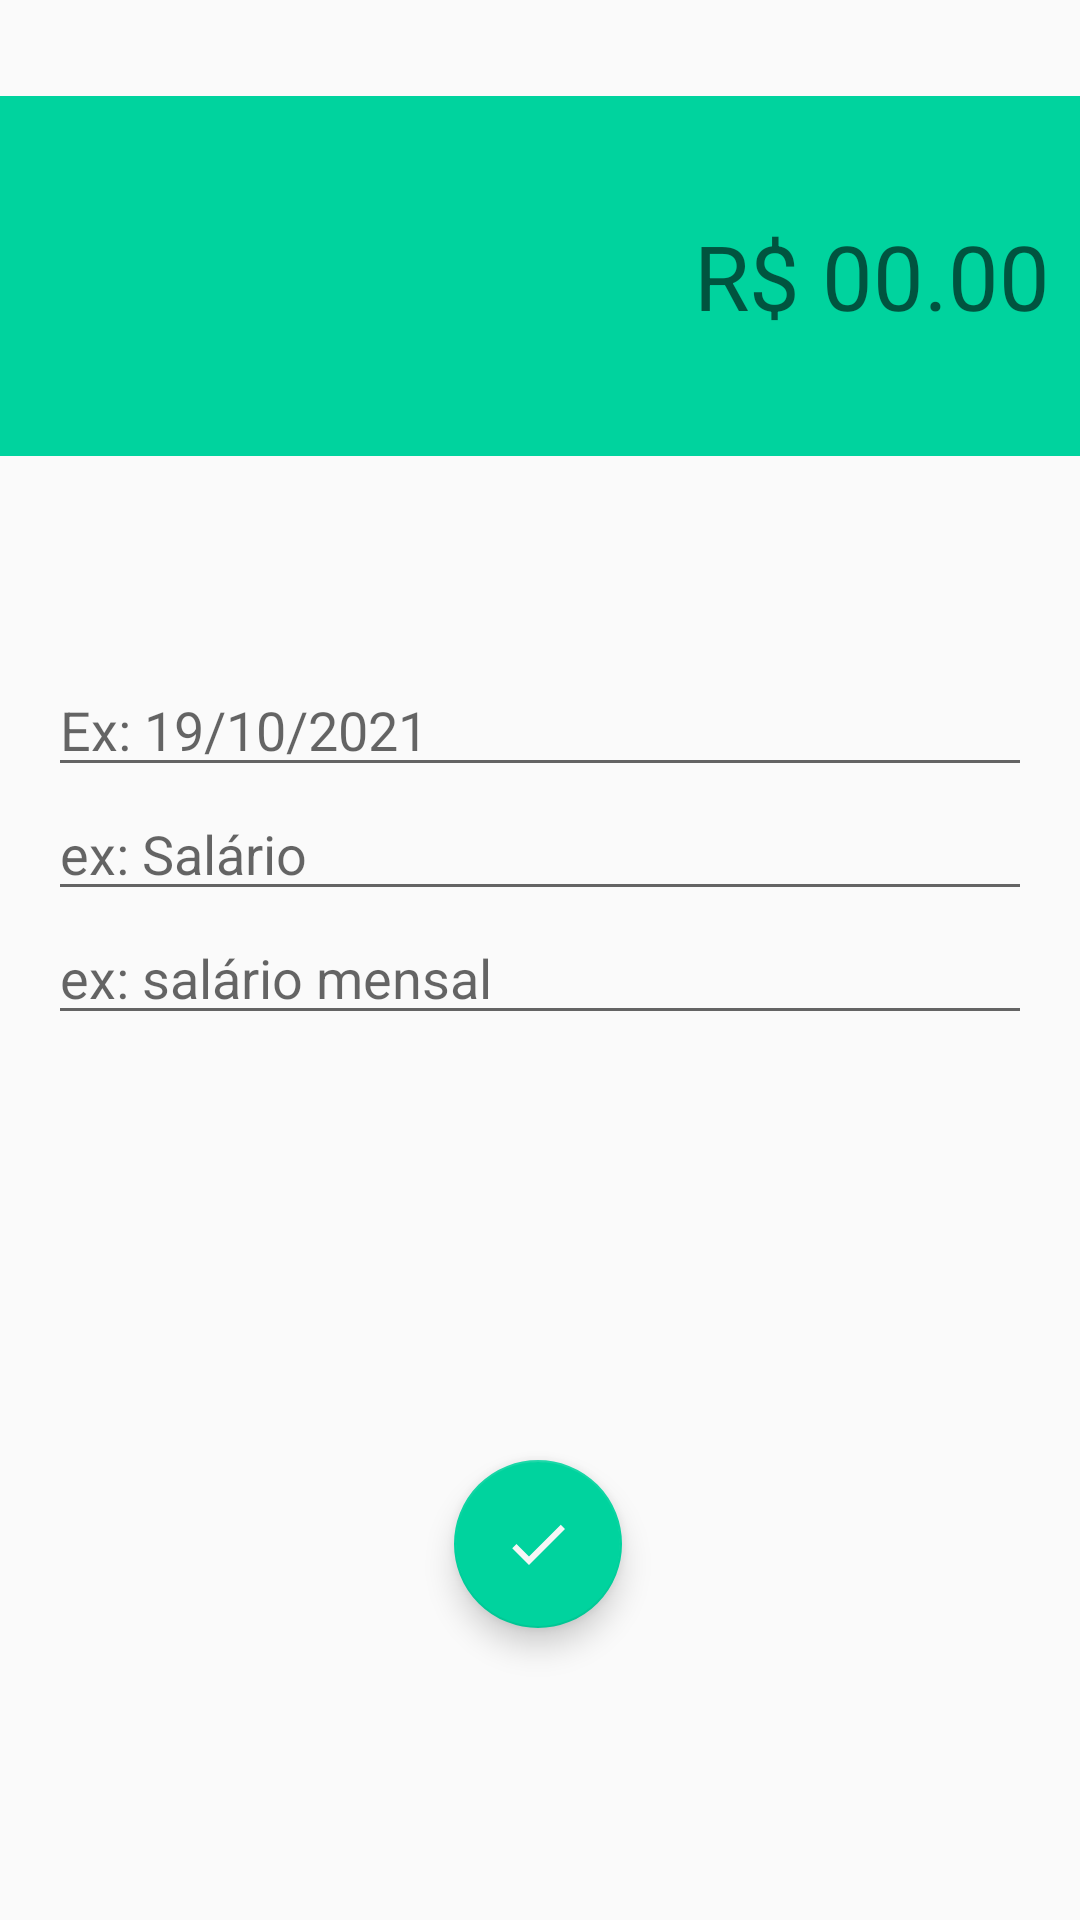

Locate icon controls on the screen. Image size 1080px x 1920px, boxes as (x1, y1, x2, y2).
confimar check: (454, 1460, 622, 1628)
